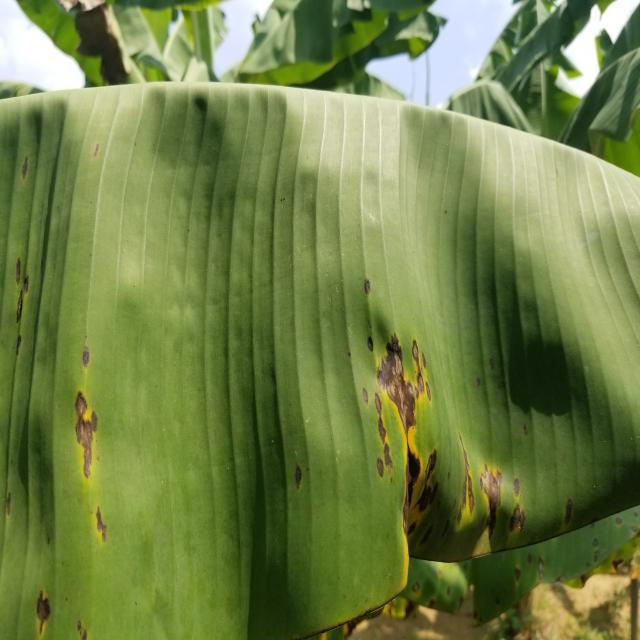Early_rust: (0, 82, 191, 640), (287, 275, 553, 585), (521, 466, 640, 596)
